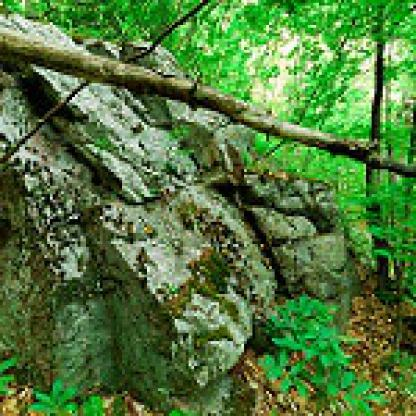rock: (0, 11, 352, 413)
trunk: (3, 28, 413, 183), (363, 36, 391, 297)
